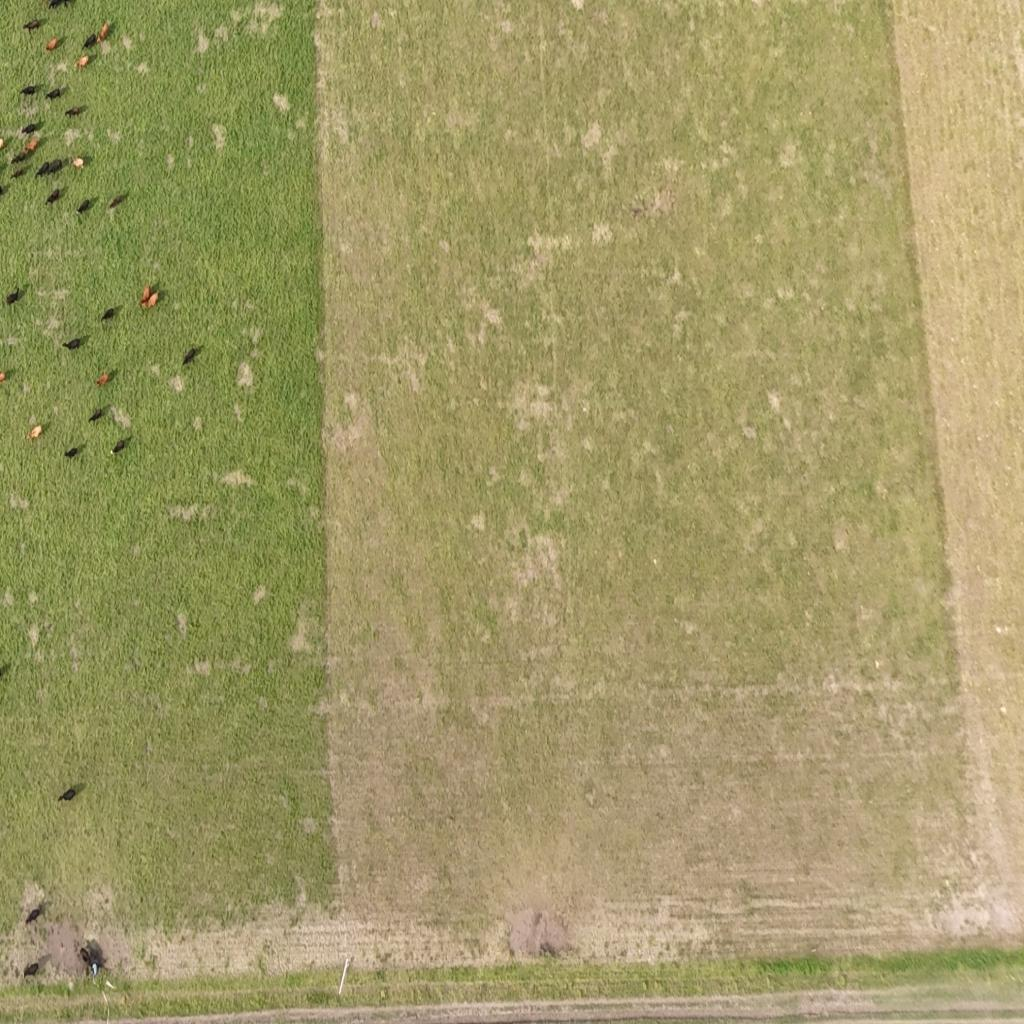cow: (78, 942, 106, 980), (177, 346, 204, 376), (84, 20, 109, 50), (56, 783, 85, 805), (27, 421, 50, 445), (37, 159, 63, 179), (5, 284, 26, 308), (139, 286, 159, 310), (99, 305, 122, 323), (88, 404, 108, 424), (75, 198, 97, 216), (44, 86, 68, 102), (46, 188, 66, 207), (23, 960, 42, 980), (26, 904, 44, 925), (62, 337, 86, 352), (111, 438, 130, 456), (47, 0, 77, 11), (43, 35, 60, 54), (11, 148, 30, 165), (108, 195, 127, 211), (12, 165, 31, 180), (22, 20, 42, 34), (22, 122, 42, 136), (19, 84, 39, 98), (79, 946, 92, 967), (64, 445, 82, 460), (68, 154, 86, 168), (64, 107, 84, 119), (84, 34, 98, 50), (0, 662, 11, 682), (96, 372, 110, 387), (75, 55, 89, 70), (24, 139, 38, 153), (0, 184, 10, 200), (0, 371, 7, 384)
